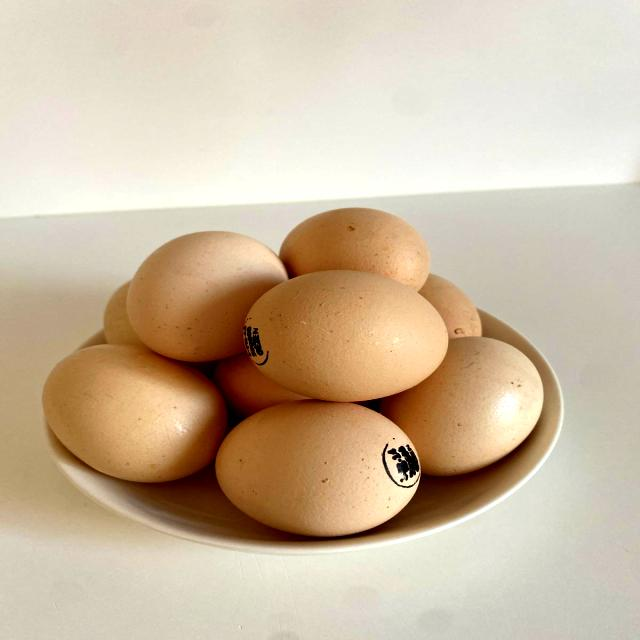egg: (192, 395, 447, 544), (21, 328, 251, 484), (233, 265, 475, 393), (109, 223, 315, 360)
